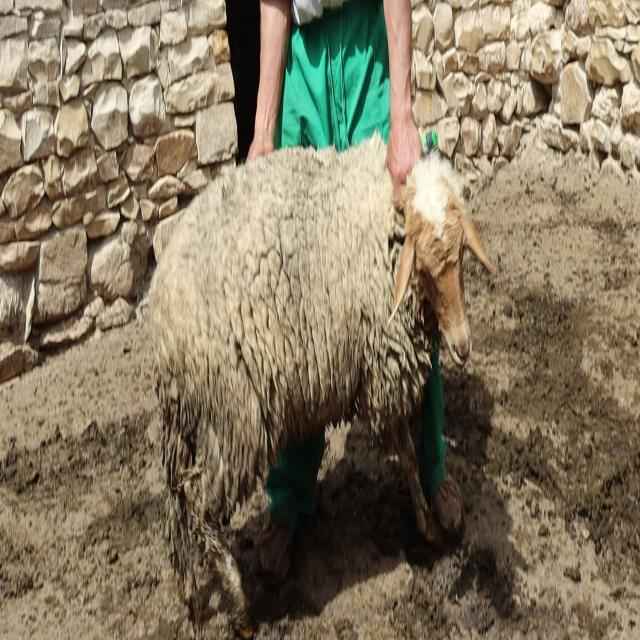Score_4: (148, 136, 494, 636)
